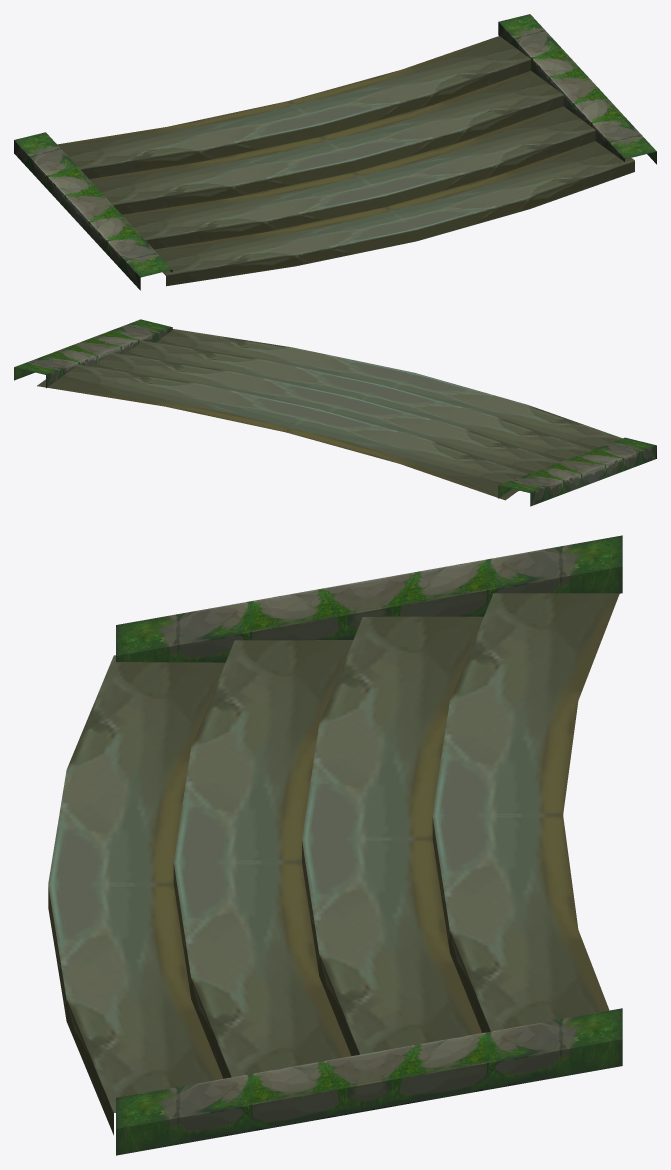
The model's file is fb_lyhg_zj_01_f.FBX.
3 renders of one model, top to bottom at view 1: azimuth 30°, elevation 25°; view 2: azimuth 150°, elevation 25°; view 3: azimuth 270°, elevation 25°, orthographic. The views are drawn at different scales.
Visible parts, largest first — view 1: fb_lyhg_zj_01_f; view 2: fb_lyhg_zj_01_f; view 3: fb_lyhg_zj_01_f.
Boxes of the visible parts, x1,y1,x2,y2 form: fb_lyhg_zj_01_f: [14, 14, 656, 290]; fb_lyhg_zj_01_f: [14, 319, 656, 506]; fb_lyhg_zj_01_f: [48, 535, 622, 1155].
Bounding box in the file's own units: 1382 × 152 × 666.
